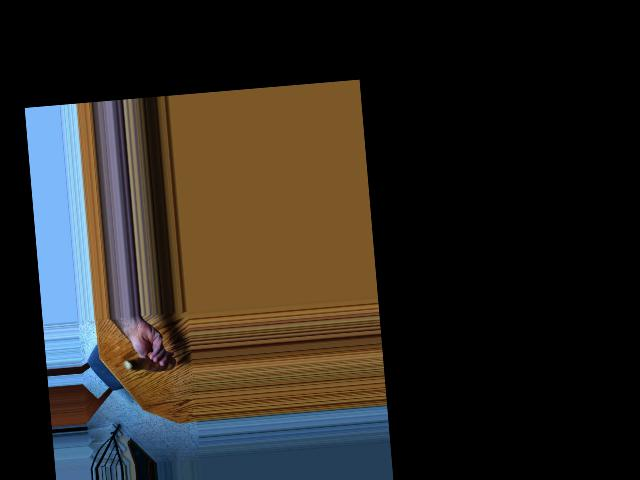sweet_potato: (122, 350, 174, 374)
